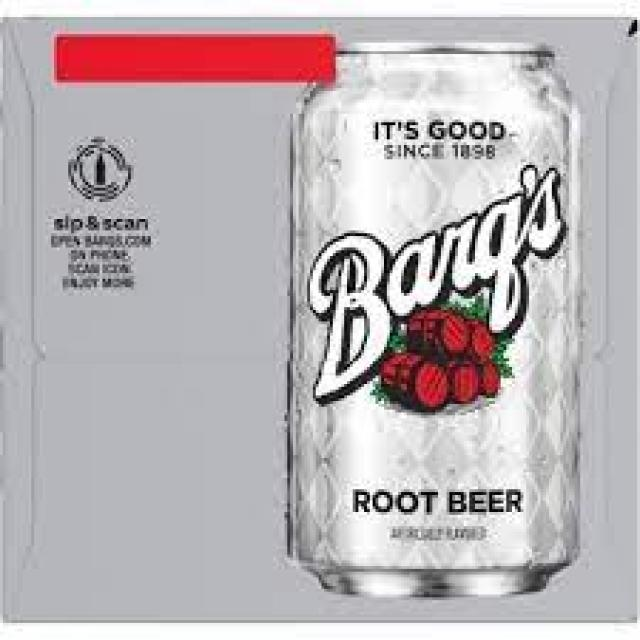Cans: (276, 31, 597, 606)
